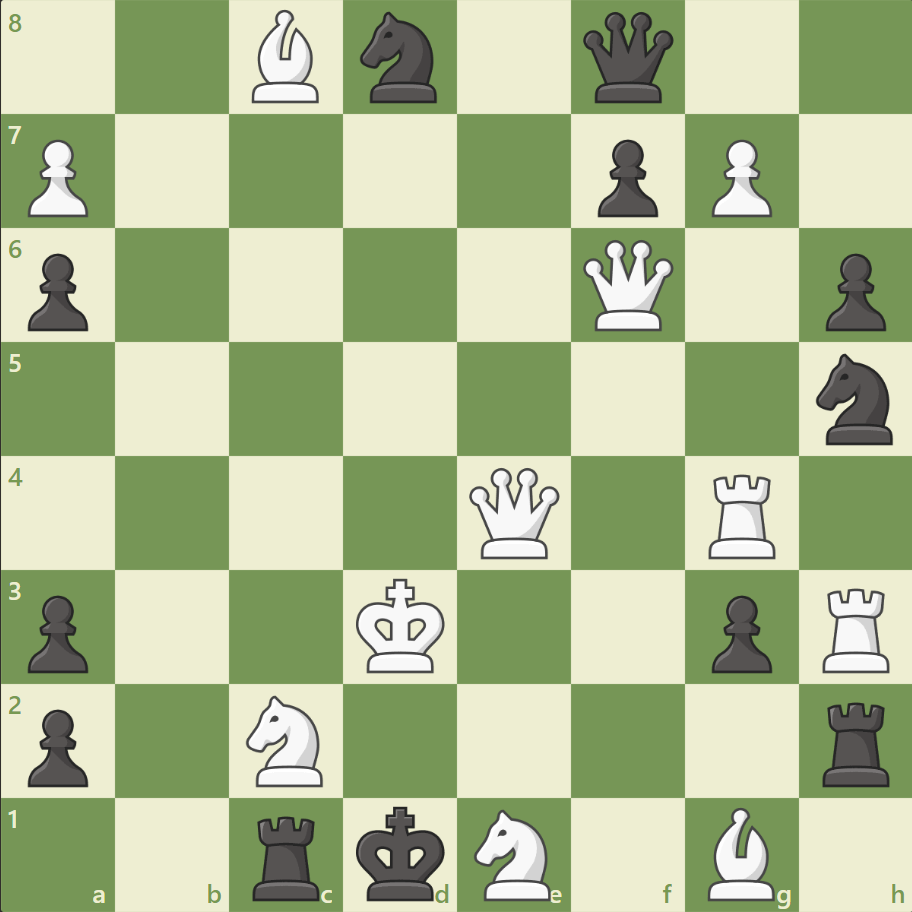B: (244, 6, 328, 109), (698, 801, 782, 904)
K: (351, 571, 451, 679)
N: (238, 688, 335, 791), (465, 802, 562, 904)
P: (20, 132, 95, 223), (701, 132, 776, 223)
Q: (578, 236, 677, 335), (464, 463, 563, 562)
R: (700, 466, 783, 563), (814, 579, 897, 676)
k: (351, 798, 451, 906)
n: (351, 7, 449, 110), (806, 348, 903, 450)
p: (20, 246, 95, 337), (20, 586, 95, 677), (701, 586, 776, 677), (20, 700, 95, 791), (588, 132, 662, 223), (815, 246, 889, 337)
q: (578, 9, 677, 108)
r: (246, 806, 329, 904), (814, 693, 897, 790)
